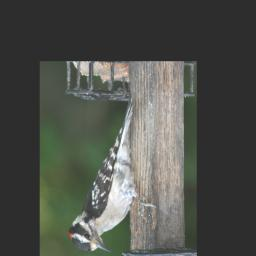Woodpecker: (68, 97, 157, 253)
